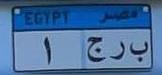1: (42, 36, 55, 65)
baa: (129, 41, 149, 64)
jeem: (86, 34, 106, 65)
raa: (108, 38, 127, 63)
